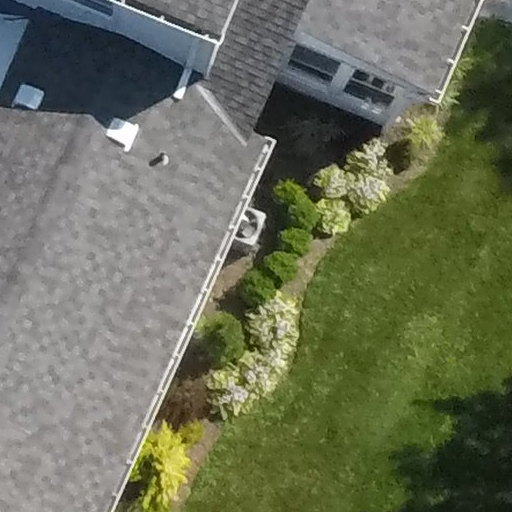air conditioner: (229, 201, 278, 250)
